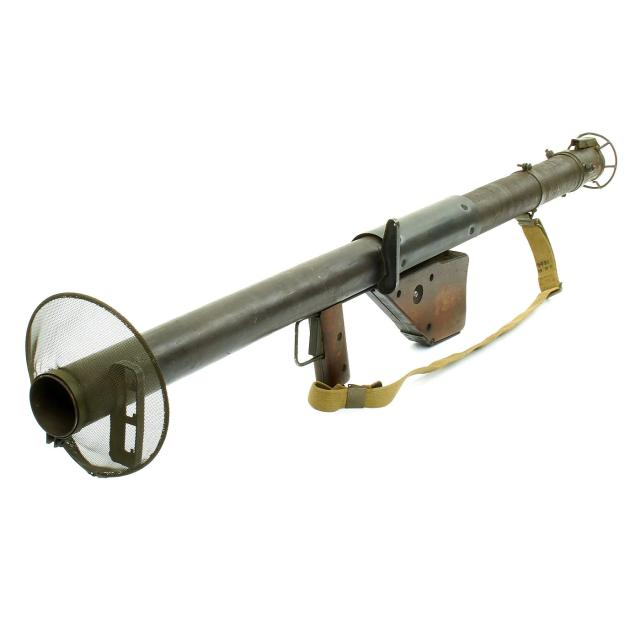bazooka: (24, 125, 629, 486)
